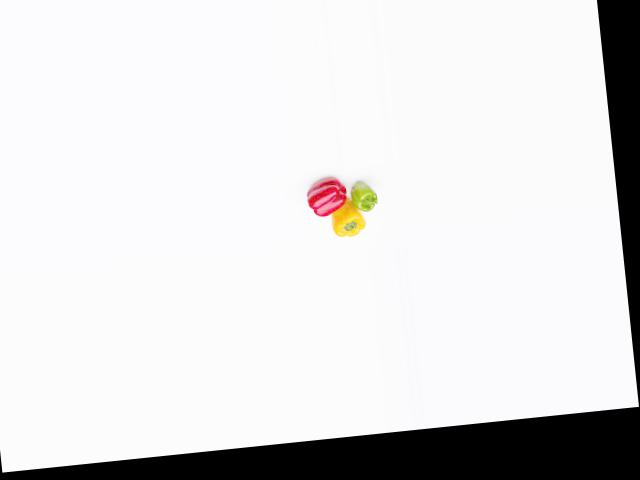bell_pepper: (348, 178, 385, 215)
